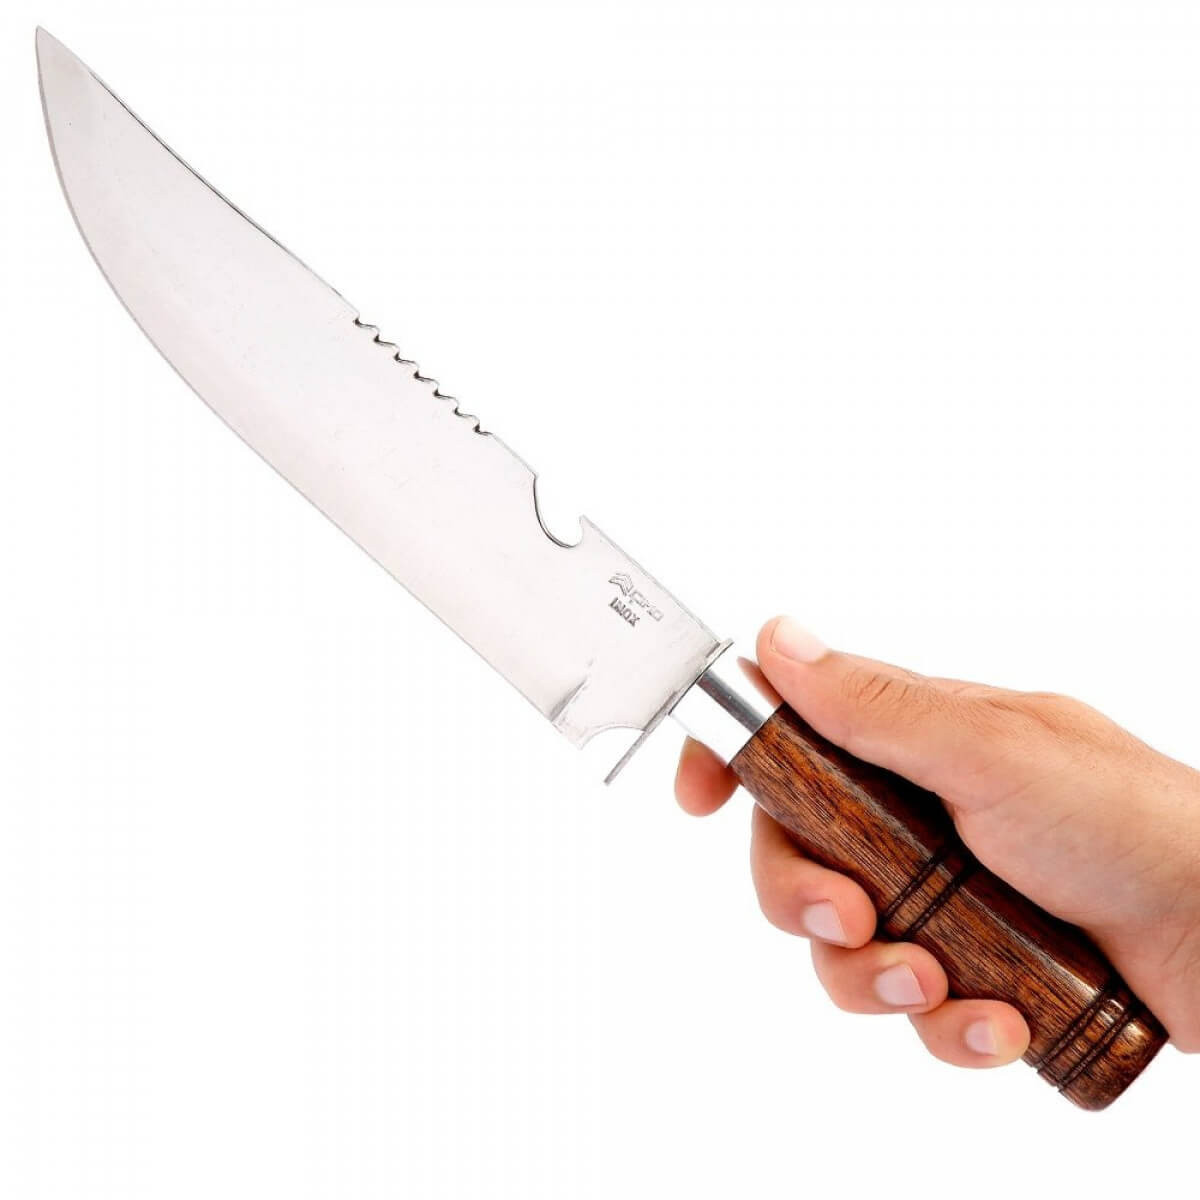knife: (33, 21, 1166, 1114)
